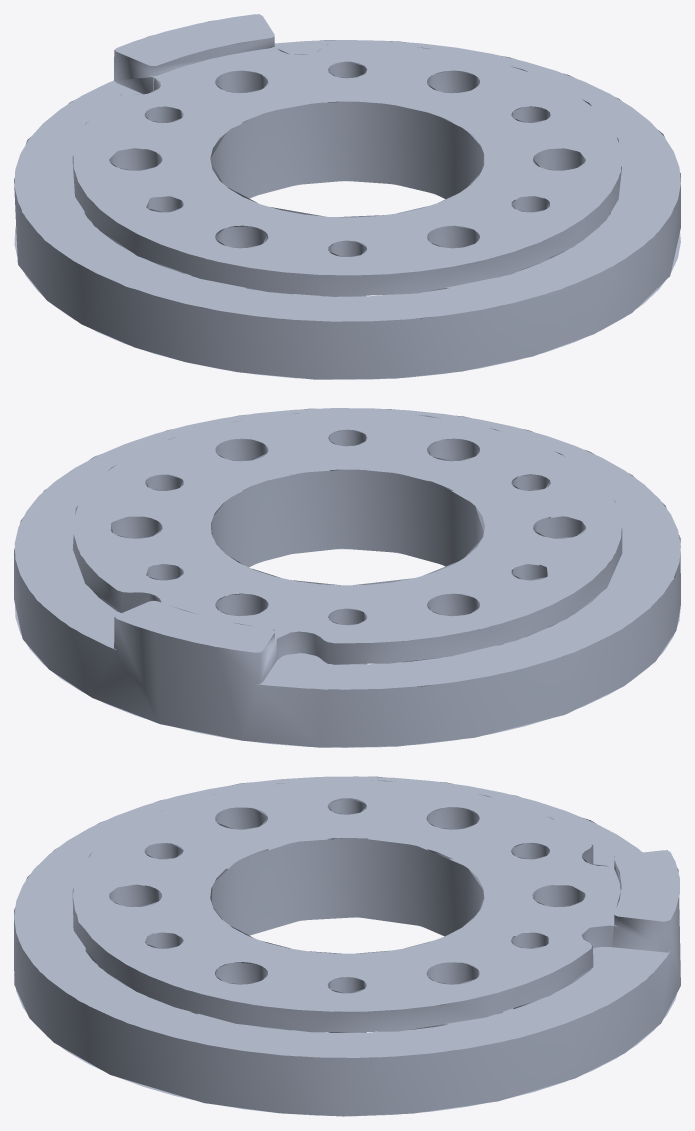
3 views of the same model, one above another, from view 1: azimuth 30°, elevation 25°; view 2: azimuth 150°, elevation 25°; view 3: azimuth 270°, elevation 25° (orthographic).
Parts seen in each view (by area): view 1: link4_01; view 2: link4_01; view 3: link4_01.
Boxes of the visible parts, x1,y1,x2,y2 form: link4_01: [14, 14, 680, 379]; link4_01: [14, 408, 680, 747]; link4_01: [14, 776, 680, 1116].
Size of the model in its own units: 0.0425 by 0.0063 by 0.0425.
